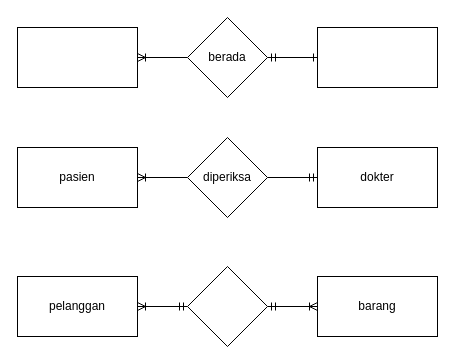
This 455x364 diagram has some shape labels left out. The shapes that lost their labels are listed below. From the top down, each one's box as (x1, y1, x2, y2) in pixels, then its label:
(16, 26, 138, 88): mhs
(316, 26, 438, 88): prodi
(186, 266, 268, 346): memesan
